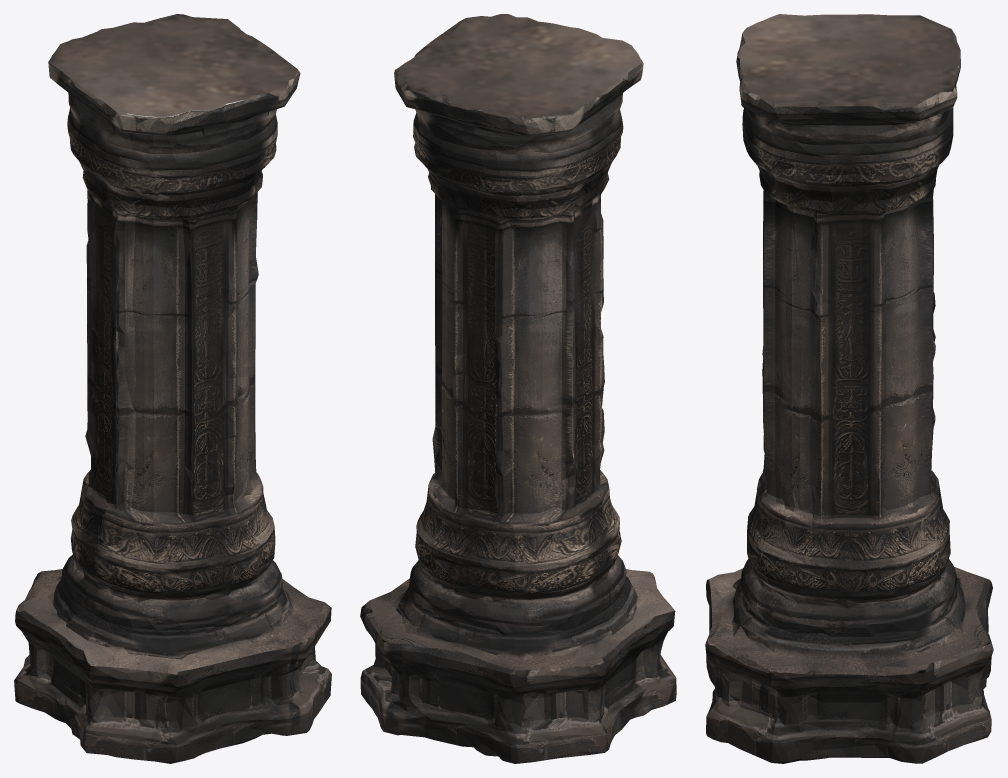
The model's file is HC_STHall_Wallcolumn_03.fbx.
The picture shows the model from 3 angles, left to right: view 1: azimuth 30°, elevation 25°; view 2: azimuth 150°, elevation 25°; view 3: azimuth 270°, elevation 25°; orthographic projection. The views are drawn at different scales.
Visible parts, largest first — view 1: HC_STHall_Wallcolumn_03; view 2: HC_STHall_Wallcolumn_03; view 3: HC_STHall_Wallcolumn_03.
Boxes of the visible parts, x1,y1,x2,y2 form: HC_STHall_Wallcolumn_03: (14, 14, 331, 763); HC_STHall_Wallcolumn_03: (360, 14, 676, 763); HC_STHall_Wallcolumn_03: (705, 14, 993, 763).
Bounding box in the file's own units: 0.8016 × 0.8003 × 1.98.
